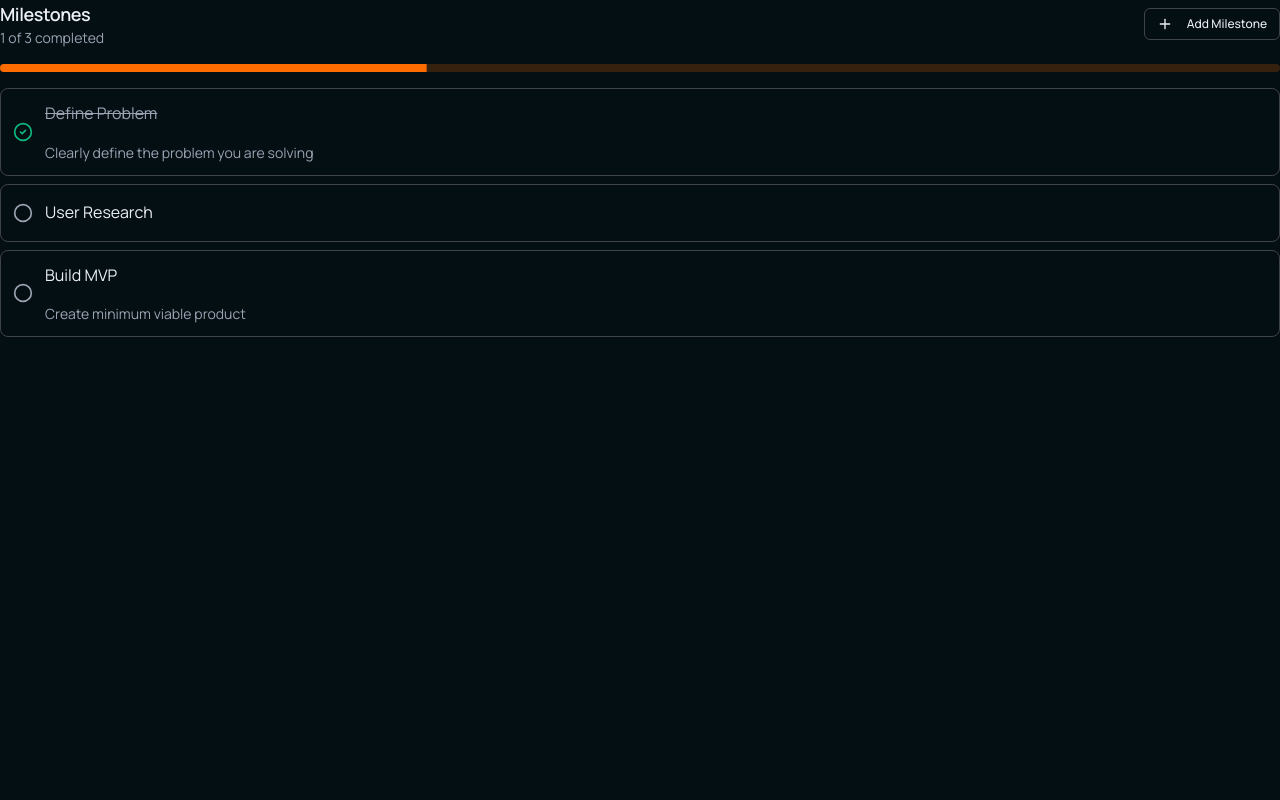
Test: MilestoneProgress › should close dialog on Cancel
The image size is (1280, 800).
Open dialog
Step 1. Click the button "Add Milestone" → (1212, 24), box [1144,8,1279,40]
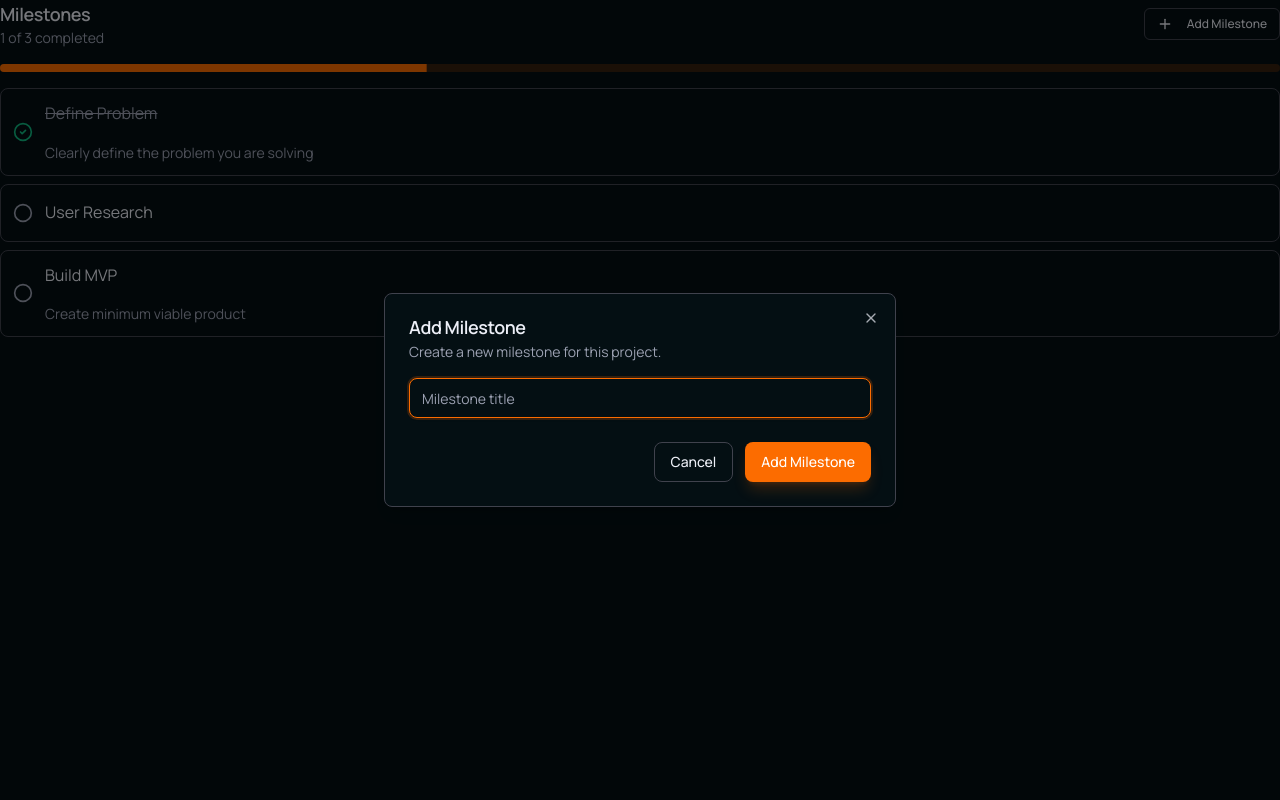
Check: the dialog is shown, box [384,293,896,507]
Click cancel
Step 2. Click the button "Cancel" → (693, 462), box [654,442,733,482]
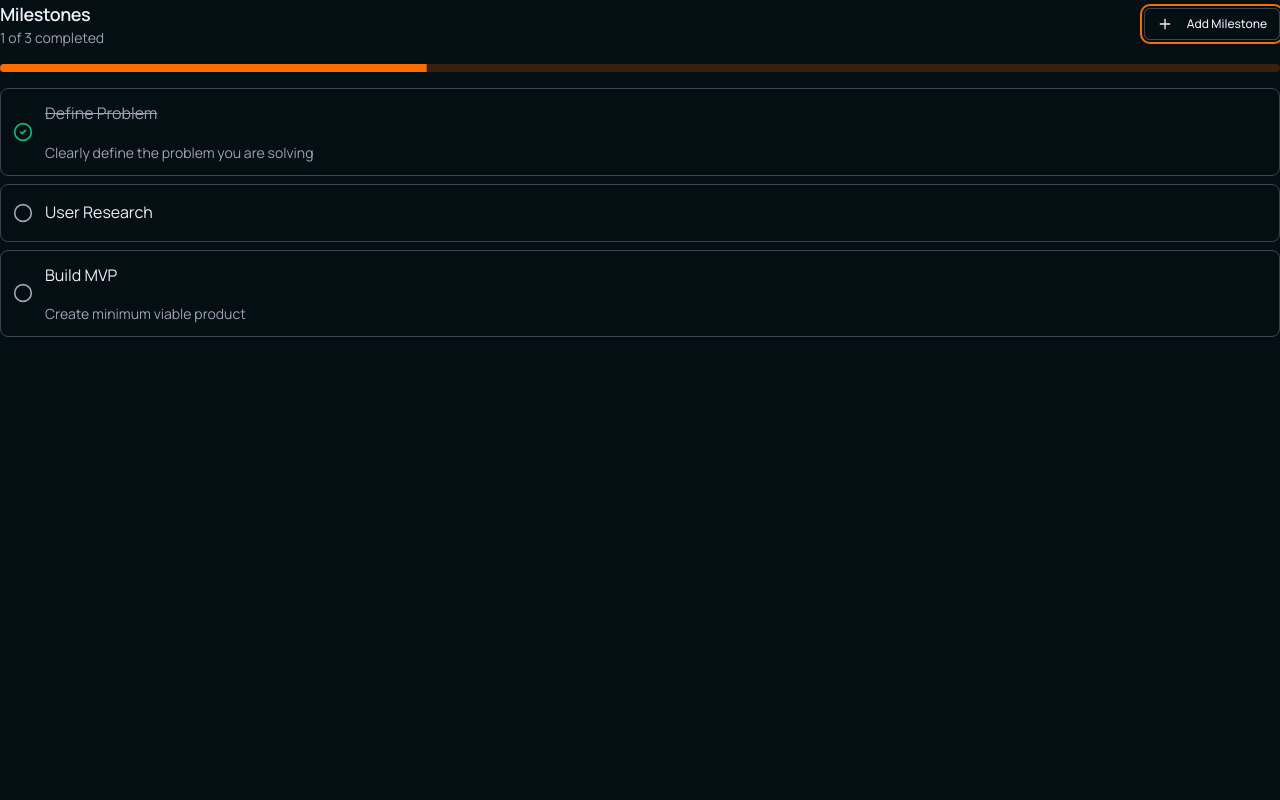
Check: the dialog is gone
